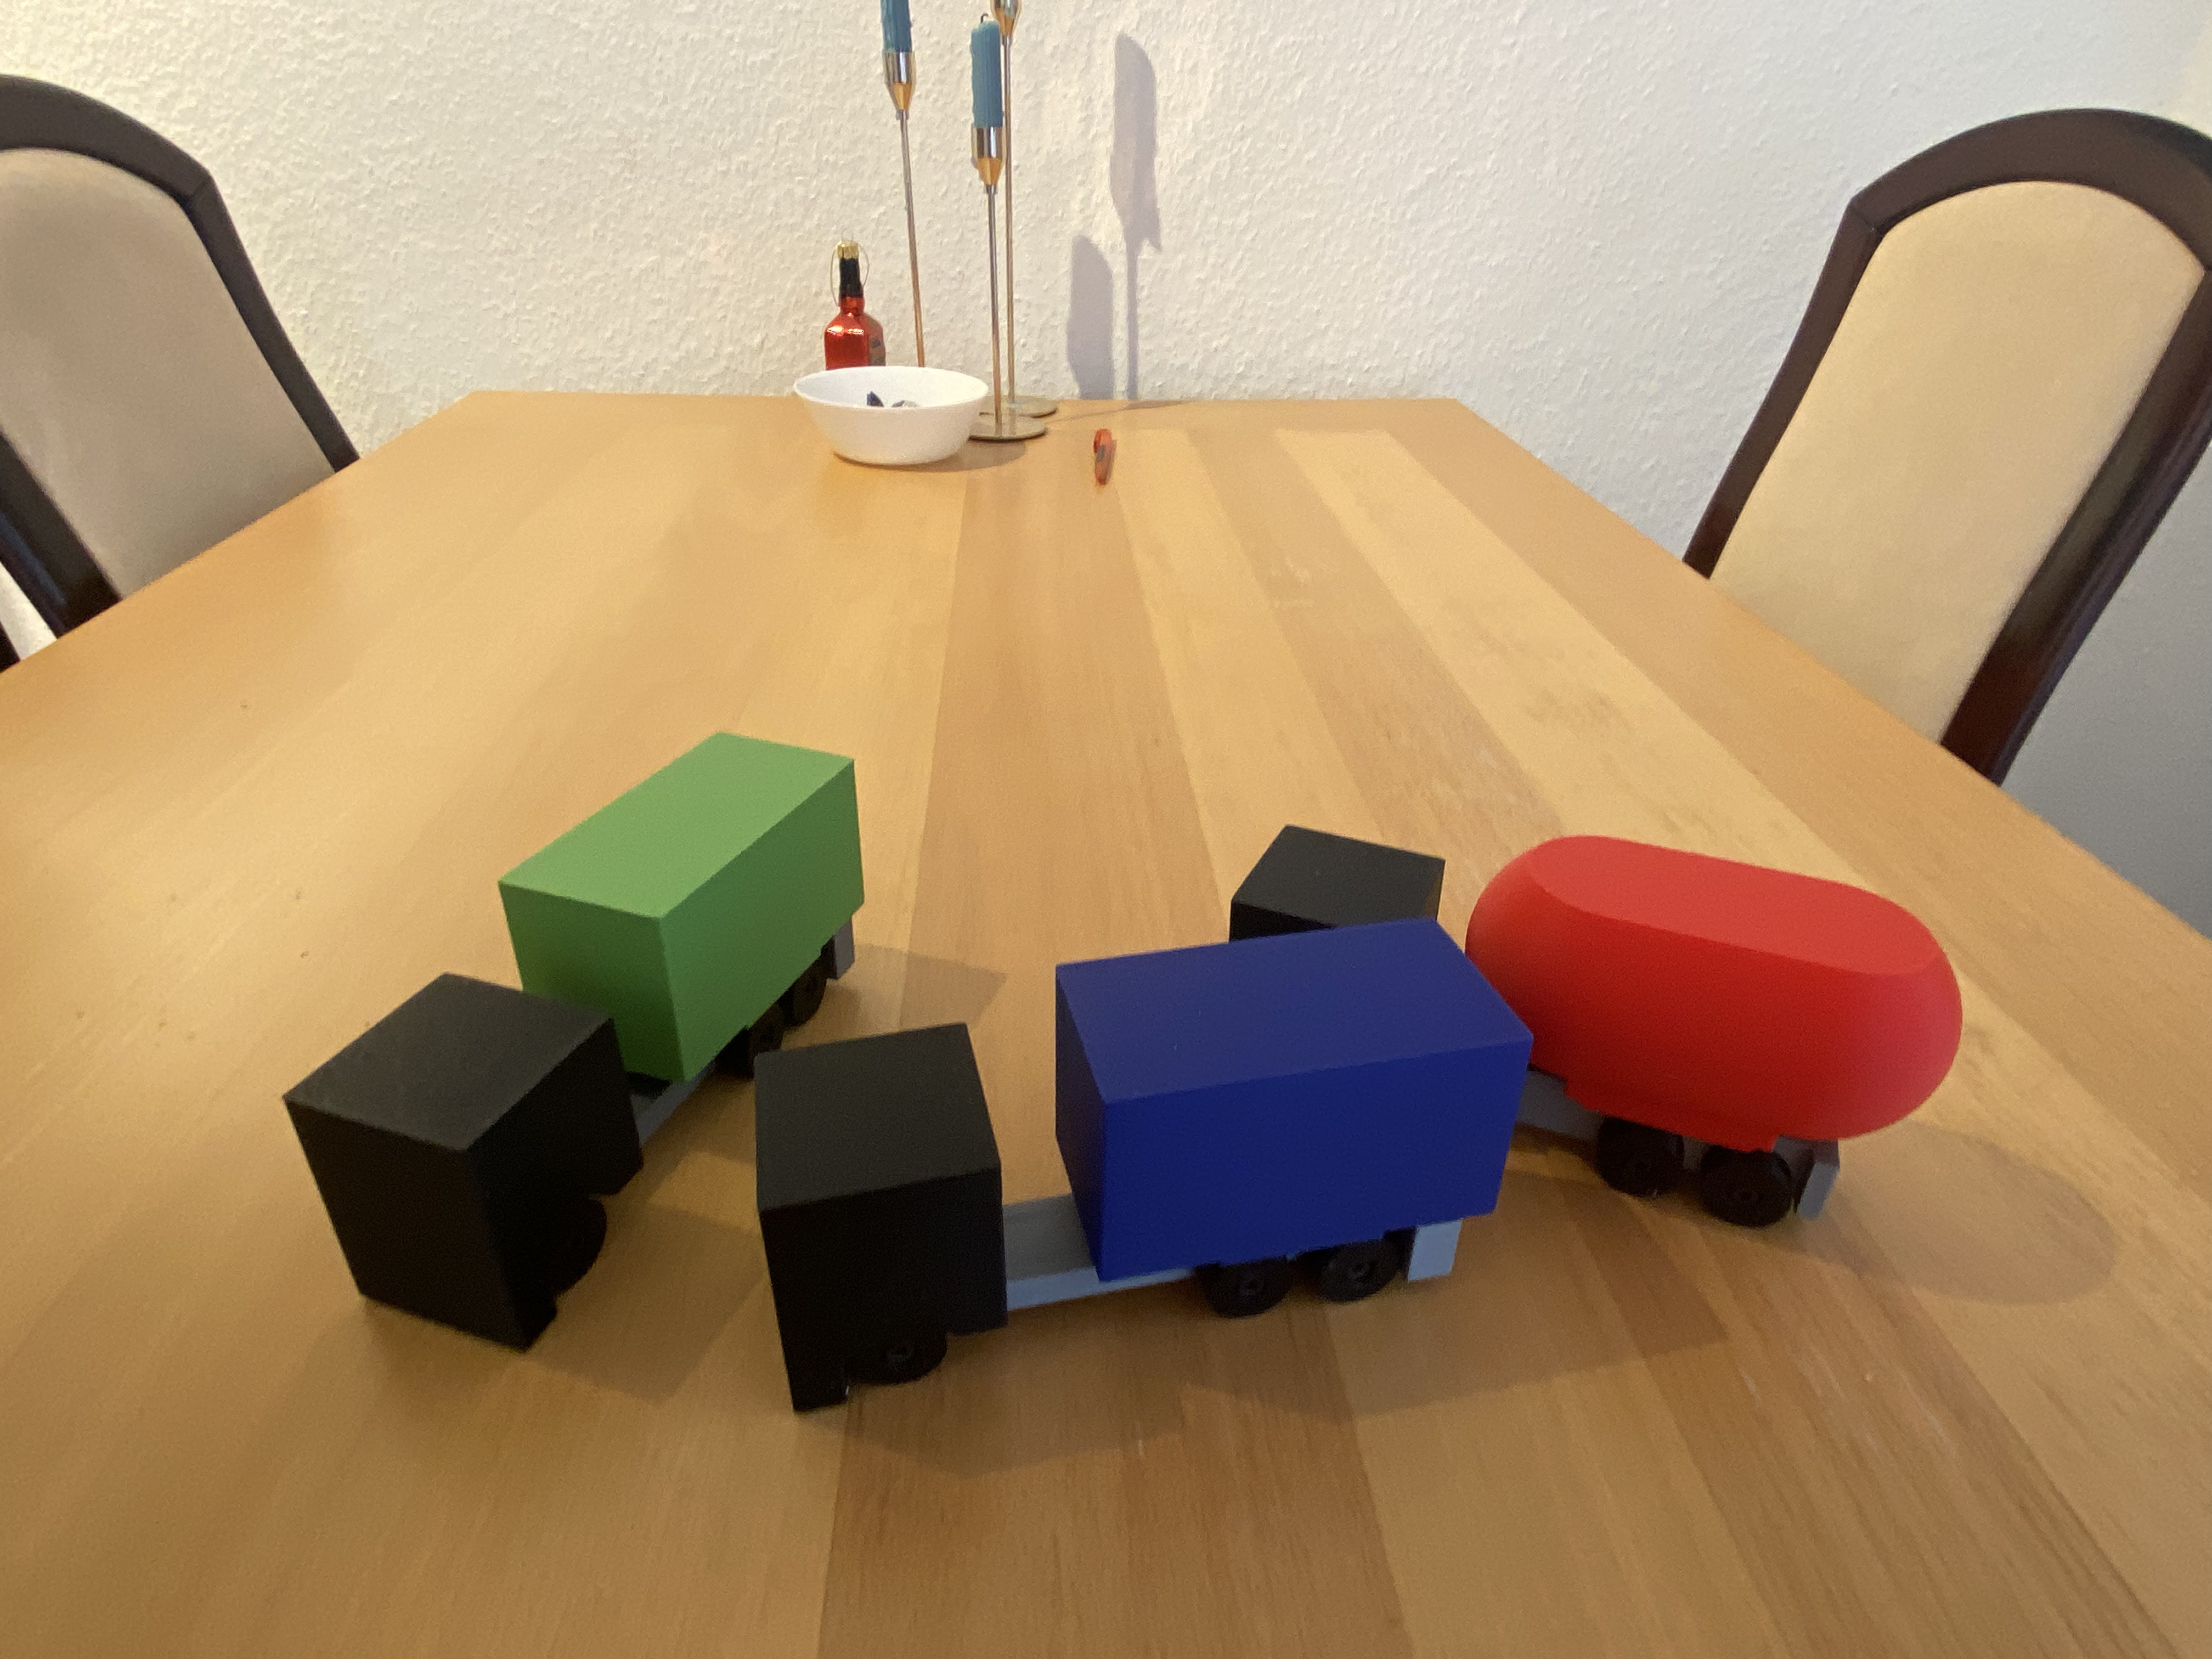blue_truck: (749, 946, 1552, 1380)
green_truck: (239, 843, 975, 1211)
red_truck: (1211, 821, 1975, 1195)
